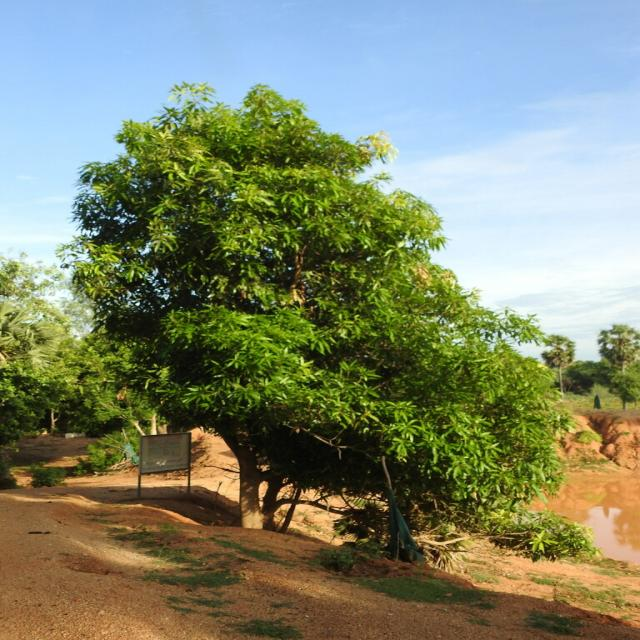Mango-Tree: (87, 89, 560, 532)
